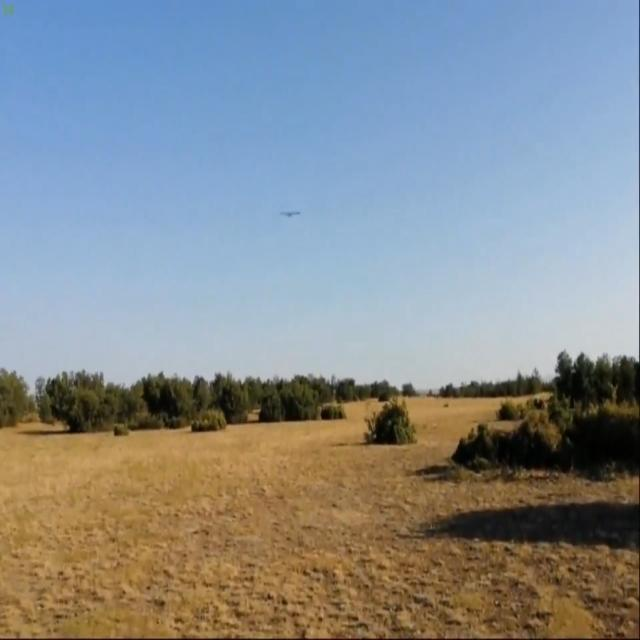Airplane: (277, 207, 304, 221)
